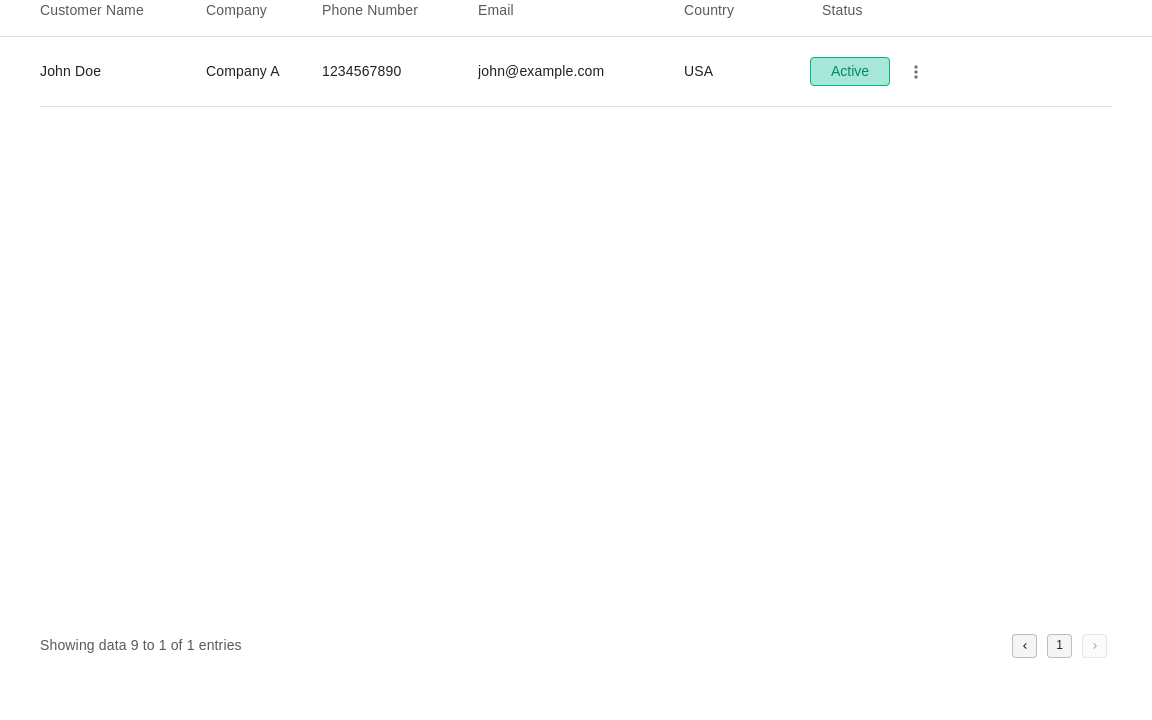
ListItemCustomers component › Should handle change Active customer successful
Click the button with test id "button-toggle" at x=850, y=72, box [810,57,890,86]
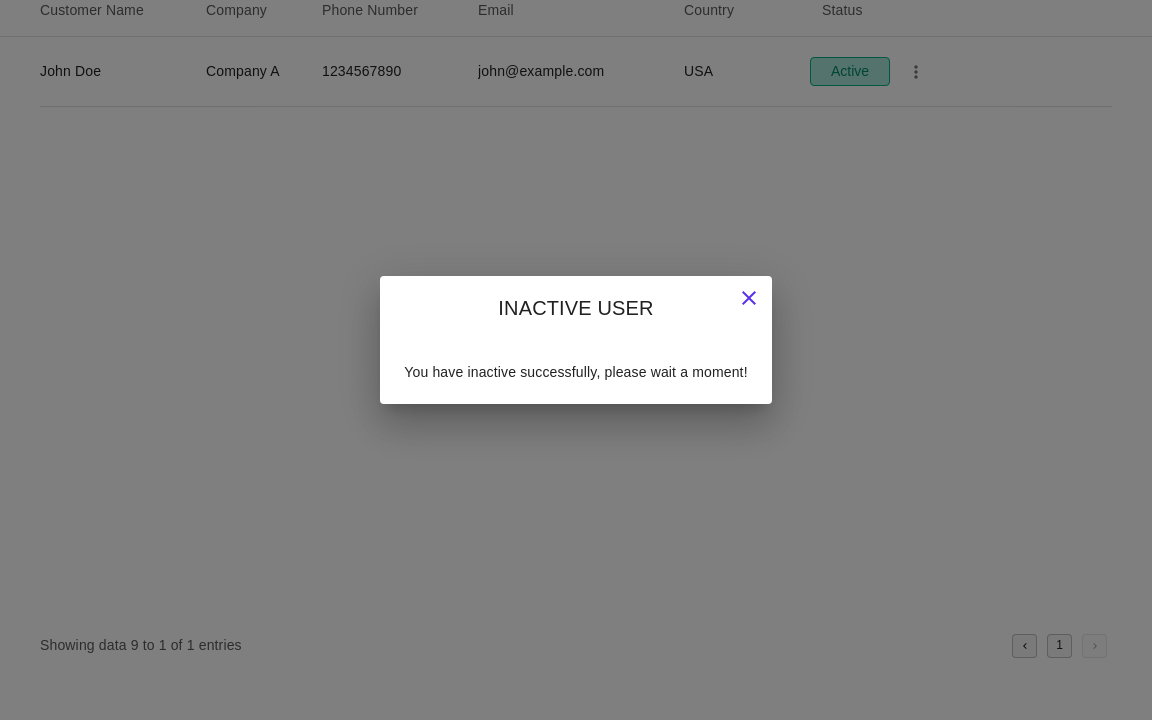
Expected: the text "You have inactive successfully, please wait a moment!" is shown, [404,364,748,380]
